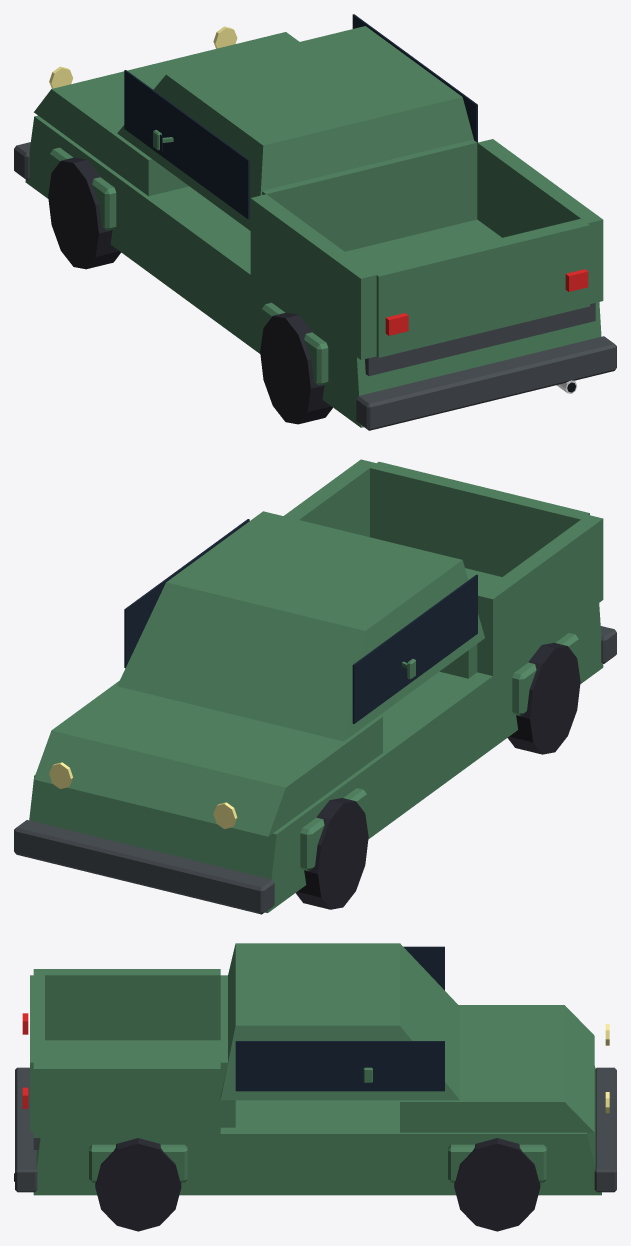
The model's file is civilian_pickup_truck.fbx.
3 renders of one model, top to bottom at view 1: azimuth 30°, elevation 25°; view 2: azimuth 150°, elevation 25°; view 3: azimuth 270°, elevation 25°, orthographic. The views are drawn at different scales.
Parts seen in each view (by area): view 1: civilian_pickup_truck; view 2: civilian_pickup_truck; view 3: civilian_pickup_truck.
Part boxes in pixels (bbox=[...]): civilian_pickup_truck: bbox=[14, 14, 616, 430]; civilian_pickup_truck: bbox=[14, 459, 616, 914]; civilian_pickup_truck: bbox=[14, 943, 616, 1231].
Bounding box in the file's own units: 700 × 560 × 1600.
